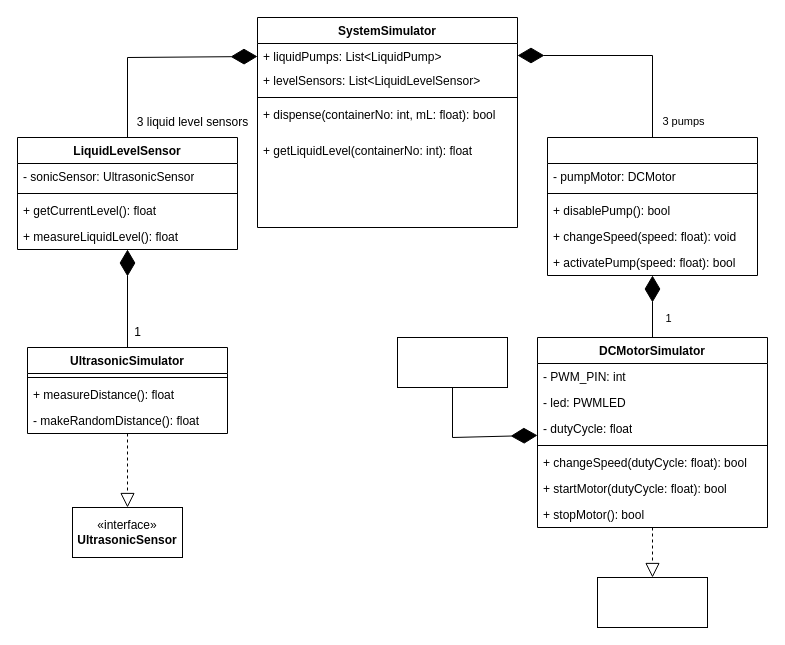
Image size: 785x645. Some labels were removed from this diagram. The box of each missing label's shape, as (x1, y1, x2, y2) in pixels:
LiquidPump: (546, 136, 758, 276)
«gpiozero» PWMLED: (396, 336, 508, 388)
«interface» DCMotor: (596, 576, 708, 628)
